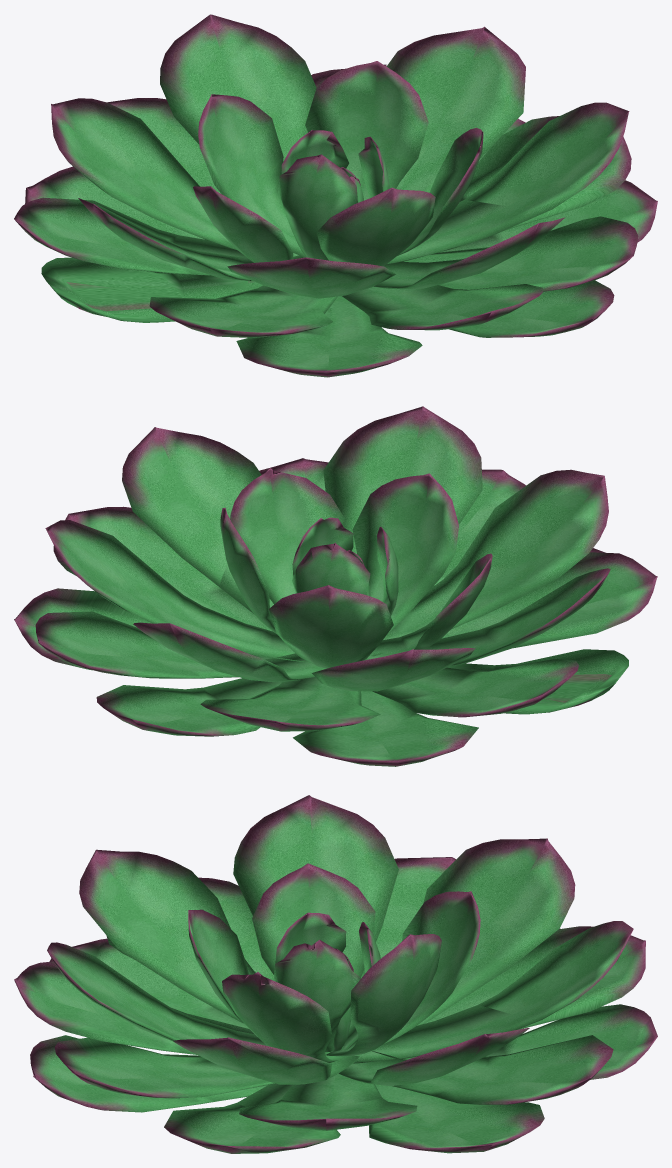
The model's file is rosette-echeveria-purple.glb.
The picture shows the model from 3 angles, top to bottom: view 1: azimuth 30°, elevation 25°; view 2: azimuth 150°, elevation 25°; view 3: azimuth 270°, elevation 25°; orthographic projection.
Parts seen in each view (by area): view 1: plant; view 2: plant; view 3: plant.
Boxes of the visible parts, x1,y1,x2,y2 form: plant: (14, 14, 657, 377); plant: (14, 406, 657, 766); plant: (14, 795, 657, 1153).
Size of the model in its own units: 3.26 by 0.9999 by 3.24.
1 material, 1 textured.
